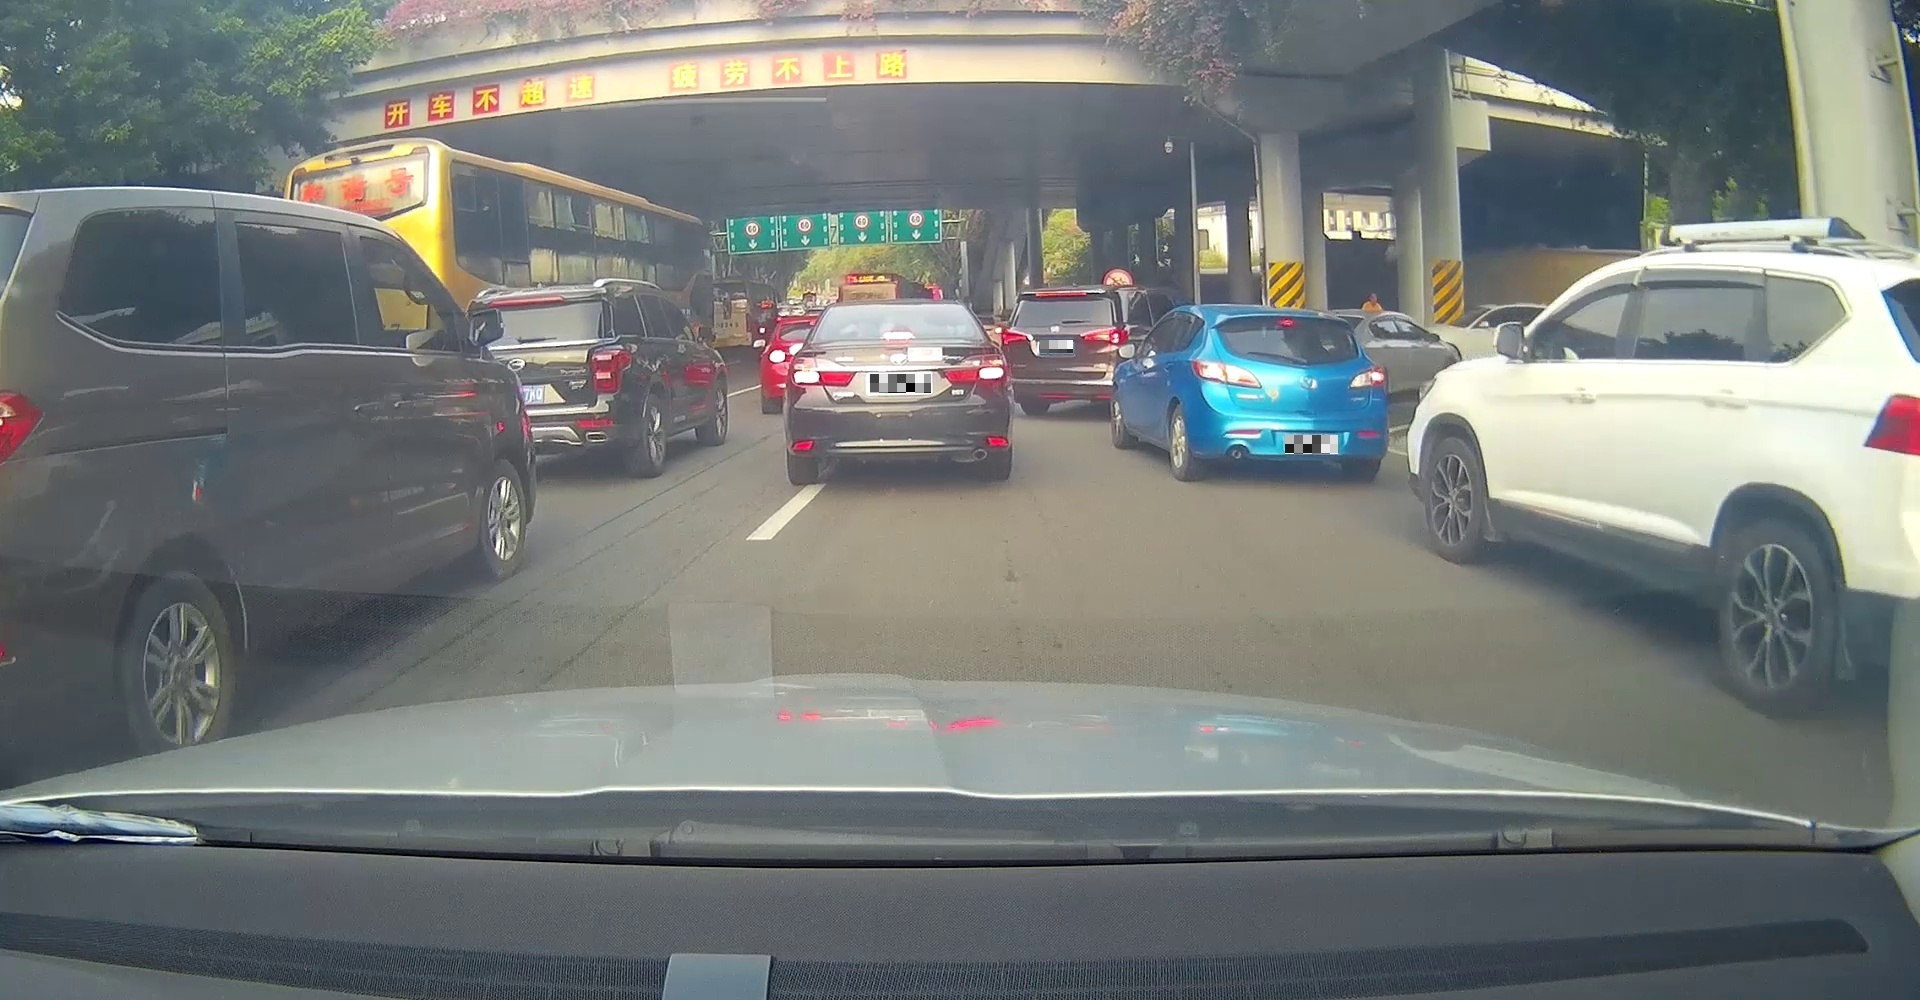L_light: (1192, 359, 1261, 390), (791, 357, 855, 387)
R_light: (942, 353, 1010, 382), (1349, 365, 1387, 390)
T_light: (883, 331, 913, 339), (1276, 317, 1295, 325)
day-brake: (786, 299, 1015, 485), (1190, 305, 1388, 480)
plate_1: (870, 374, 931, 393)
plate_2: (1040, 340, 1073, 353)
plate_3: (1285, 435, 1338, 454)
